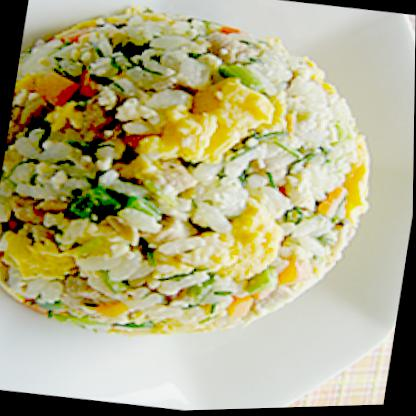fried rice: (0, 2, 395, 357)
